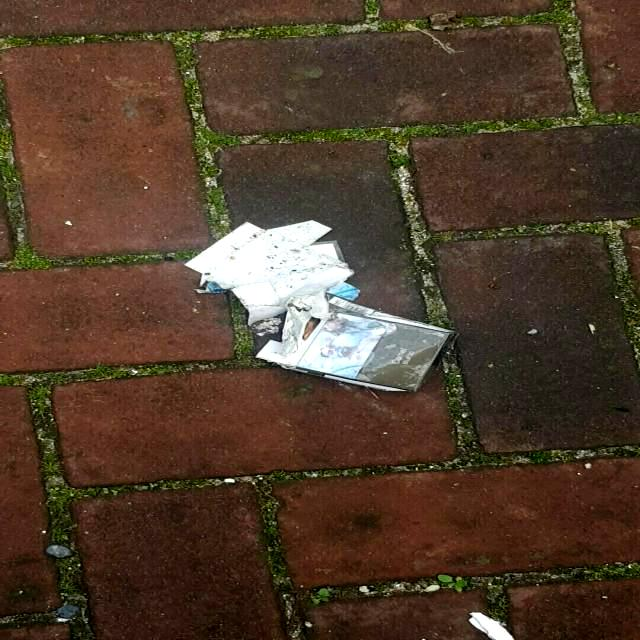Paper: (180, 218, 462, 396)
